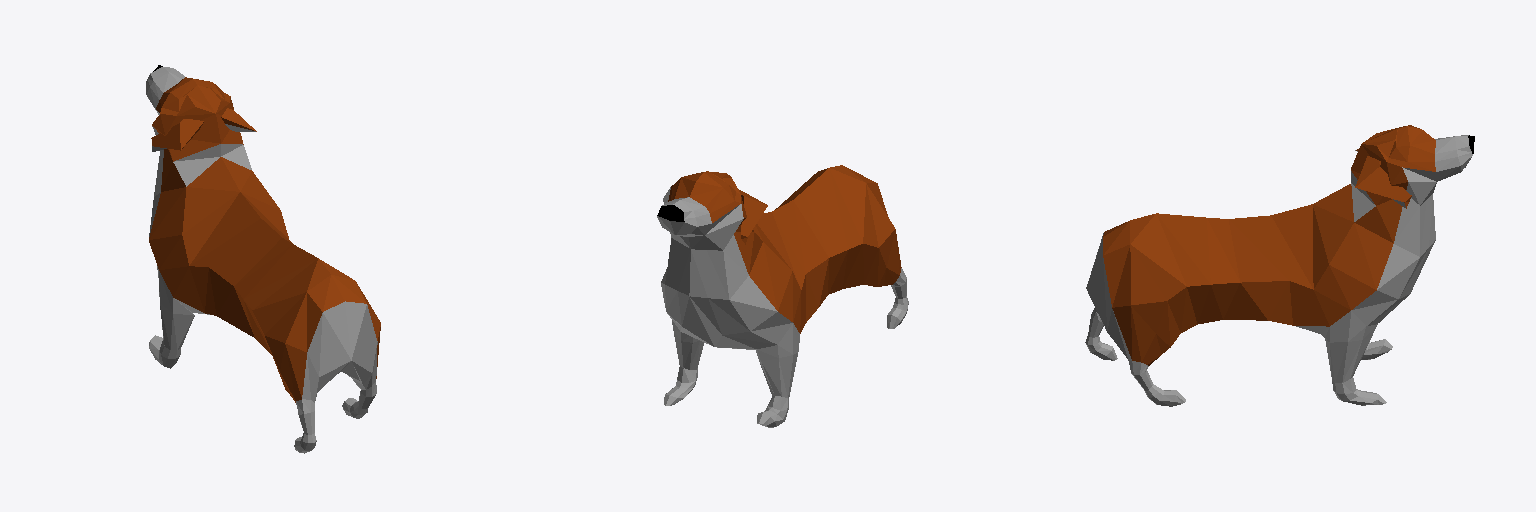
File: corgi.obj
3 renders of one model, left to right at view 1: azimuth 30°, elevation 25°; view 2: azimuth 150°, elevation 25°; view 3: azimuth 270°, elevation 25°, orthographic.
Visible parts, largest first — view 1: Cylinder; view 2: Cylinder; view 3: Cylinder.
Part boxes in pixels (x1,y1,x2,y2): Cylinder: (146, 65, 380, 453); Cylinder: (657, 165, 908, 427); Cylinder: (1085, 125, 1474, 406).
Bounding box in the file's own units: 1.14 × 2.32 × 3.14.